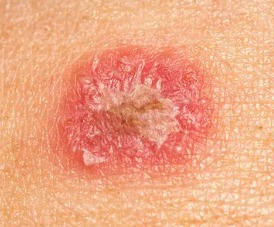Ringworm: (47, 34, 226, 186)
